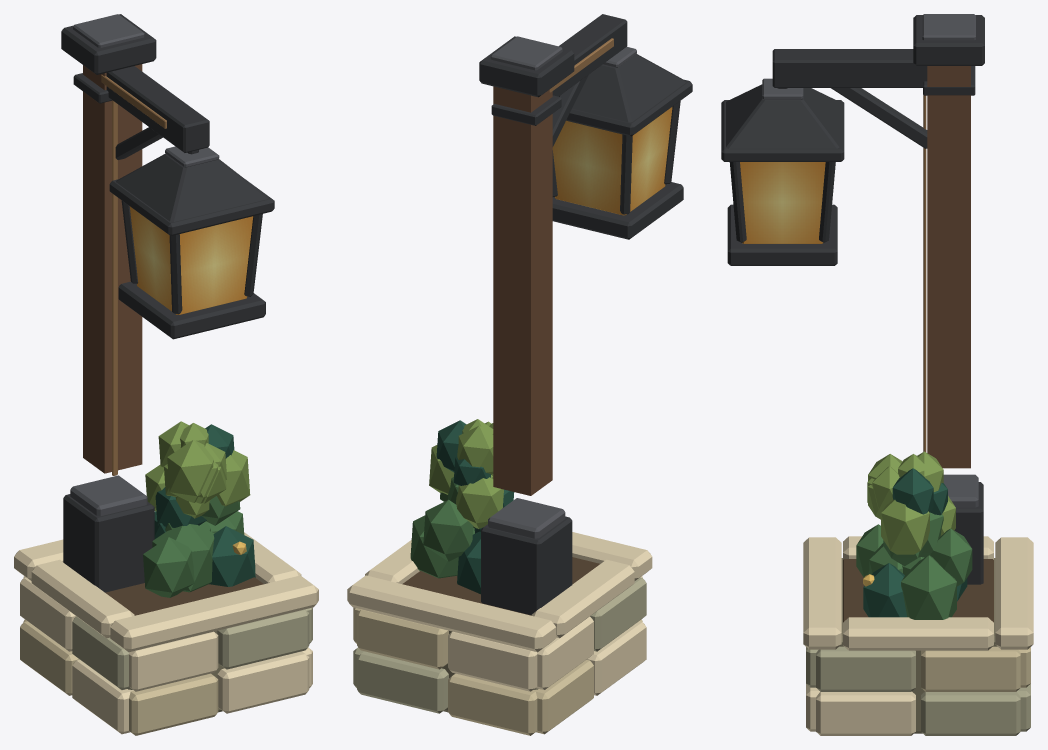
3 renders of one model, left to right at view 1: azimuth 30°, elevation 25°; view 2: azimuth 150°, elevation 25°; view 3: azimuth 270°, elevation 25°, orthographic.
Visible parts, largest first — view 1: Adopted timber post, Tapered amber panes, Rounded coping, Iron socket, Sloping rain hood, Limestone course.001, Hanging arm, Limestone course, Limestone course.009, Limestone course.008, Lantern foot, Rounded coping.003 (+29 smaller); view 2: Adopted timber post, Tapered amber panes, Rounded coping.002, Iron socket, Sloping rain hood, Limestone course.004, Limestone course.005, Limestone course.012, Limestone course.013, Rounded coping.003, Lantern foot, Post crown (+23 smaller); view 3: Adopted timber post, Tapered amber panes, Sloping rain hood, Hanging arm, Rounded coping.001, Limestone course.002, Limestone course.003, Rounded coping, Rounded coping.002, Limestone course.011, Limestone course.010, Lantern foot (+23 smaller).
Part boxes in pixels (bbox=[...]): Adopted timber post: bbox=[83, 64, 142, 473]; Tapered amber panes: bbox=[129, 206, 253, 314]; Rounded coping: bbox=[110, 575, 318, 652]; Iron socket: bbox=[63, 494, 154, 592]; Sloping rain hood: bbox=[116, 153, 268, 221]; Limestone course.001: bbox=[217, 651, 309, 713]; Hanging arm: bbox=[106, 66, 209, 152]; Limestone course: bbox=[129, 673, 218, 735]; Limestone course.009: bbox=[217, 609, 309, 669]; Limestone course.008: bbox=[129, 631, 218, 691]; Lantern foot: bbox=[118, 281, 265, 339]; Rounded coping.003: bbox=[31, 559, 134, 638]; Adopted timber post: bbox=[493, 86, 552, 495]; Tapered amber panes: bbox=[552, 107, 672, 215]; Rounded coping.002: bbox=[347, 575, 556, 652]; Iron socket: bbox=[481, 516, 572, 615]; Sloping rain hood: bbox=[572, 54, 686, 122]; Limestone course.004: bbox=[357, 651, 448, 713]; Limestone course.005: bbox=[448, 673, 538, 735]; Limestone course.012: bbox=[357, 609, 448, 669]; Limestone course.013: bbox=[448, 631, 537, 691]; Rounded coping.003: bbox=[531, 559, 634, 638]; Lantern foot: bbox=[552, 182, 683, 239]; Post crown: bbox=[479, 36, 574, 97]; Adopted timber post: bbox=[927, 66, 970, 468]; Tapered amber panes: bbox=[740, 162, 825, 243]; Sloping rain hood: bbox=[726, 84, 839, 148]; Hanging arm: bbox=[772, 49, 927, 87]; Rounded coping.001: bbox=[843, 617, 993, 650]; Limestone course.002: bbox=[816, 691, 915, 735]; Limestone course.003: bbox=[921, 691, 1020, 735]; Rounded coping: bbox=[803, 537, 841, 649]; Rounded coping.002: bbox=[995, 537, 1033, 649]; Limestone course.011: bbox=[921, 646, 1020, 691]; Limestone course.010: bbox=[816, 646, 915, 691]; Lantern foot: bbox=[727, 204, 837, 265].
Size of the model in its own units: 0.9 by 2.8 by 1.22.
Materials: 15 (1 with a texture image).
